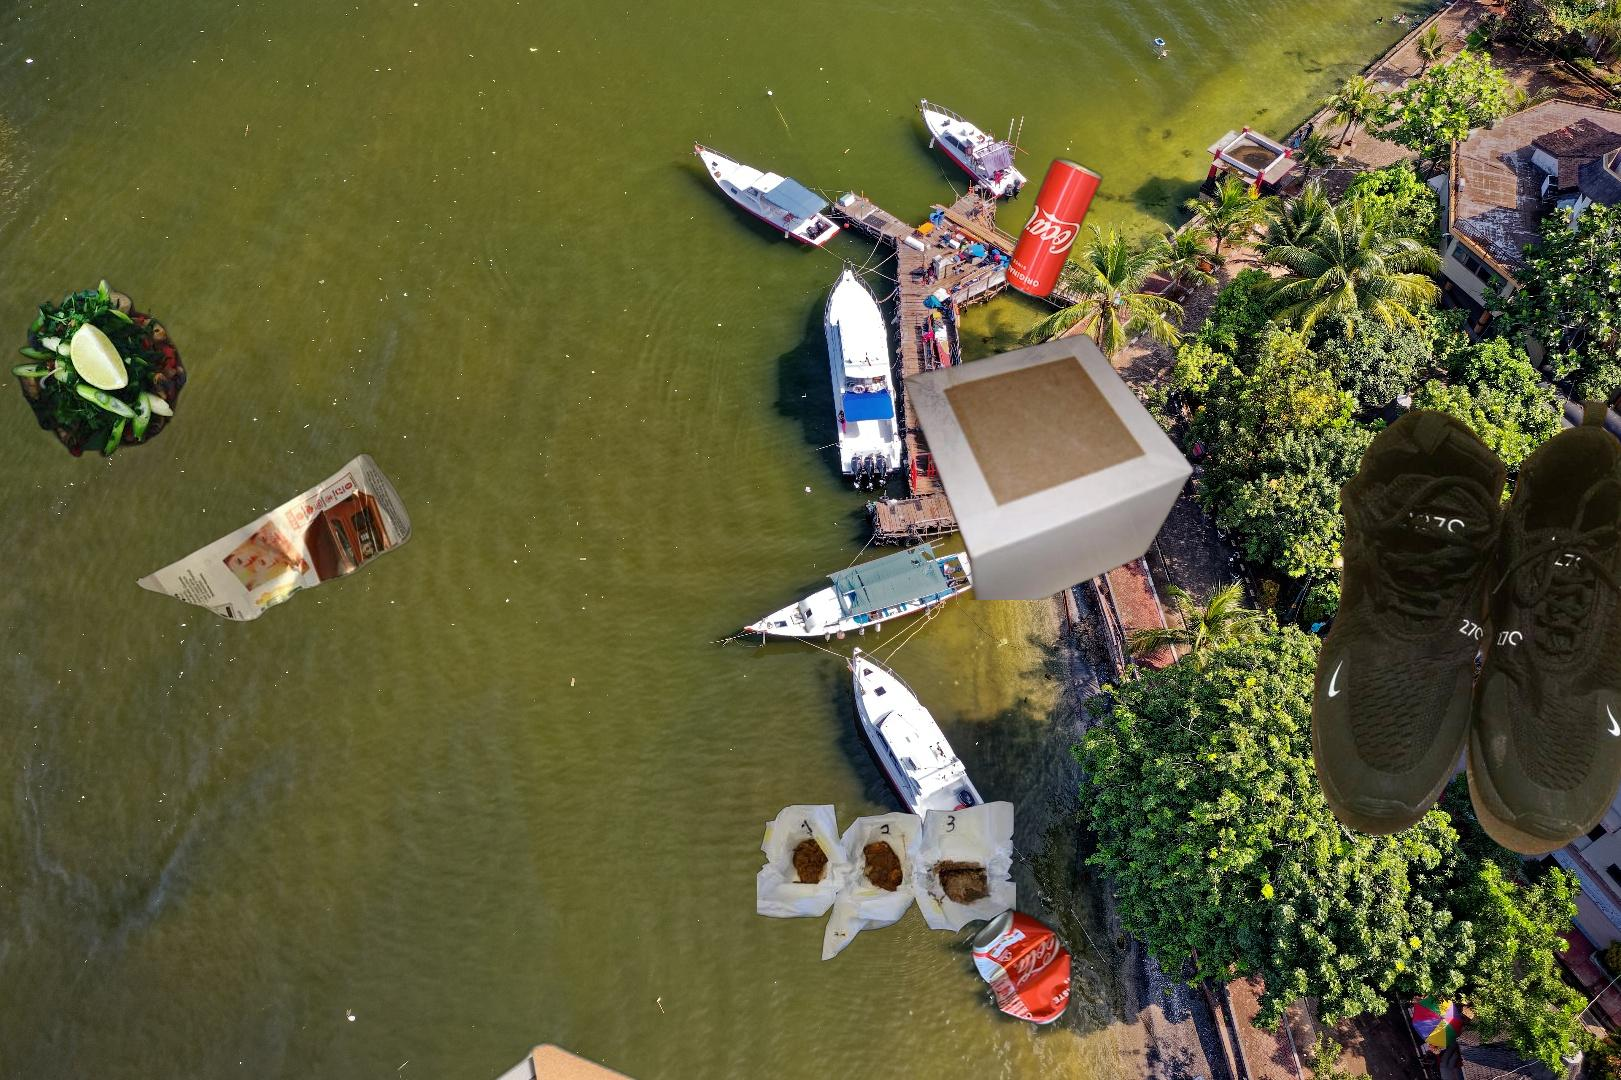biological: (8, 276, 193, 460)
metal-cans: (999, 152, 1106, 304), (967, 903, 1077, 1031)
paper: (130, 450, 417, 626)
shoes: (1309, 377, 1621, 859)
trash: (757, 797, 1016, 964)
trashbox-cardboard: (900, 316, 1231, 600), (169, 1034, 1114, 1080)
